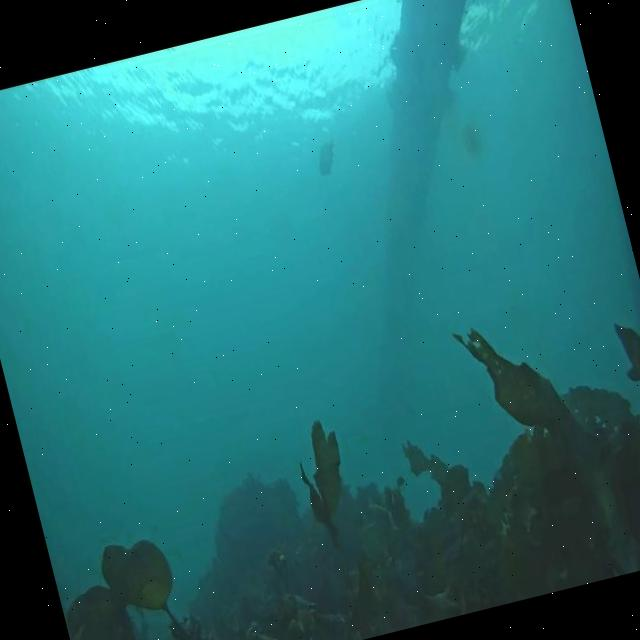fish: (309, 133, 346, 182)
